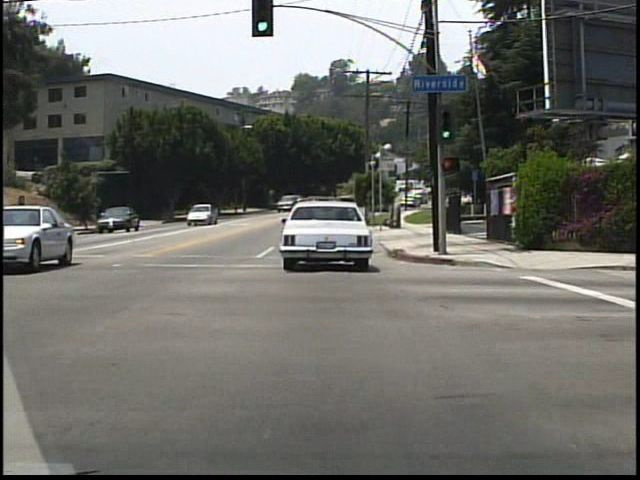person: (104, 206, 115, 230)
